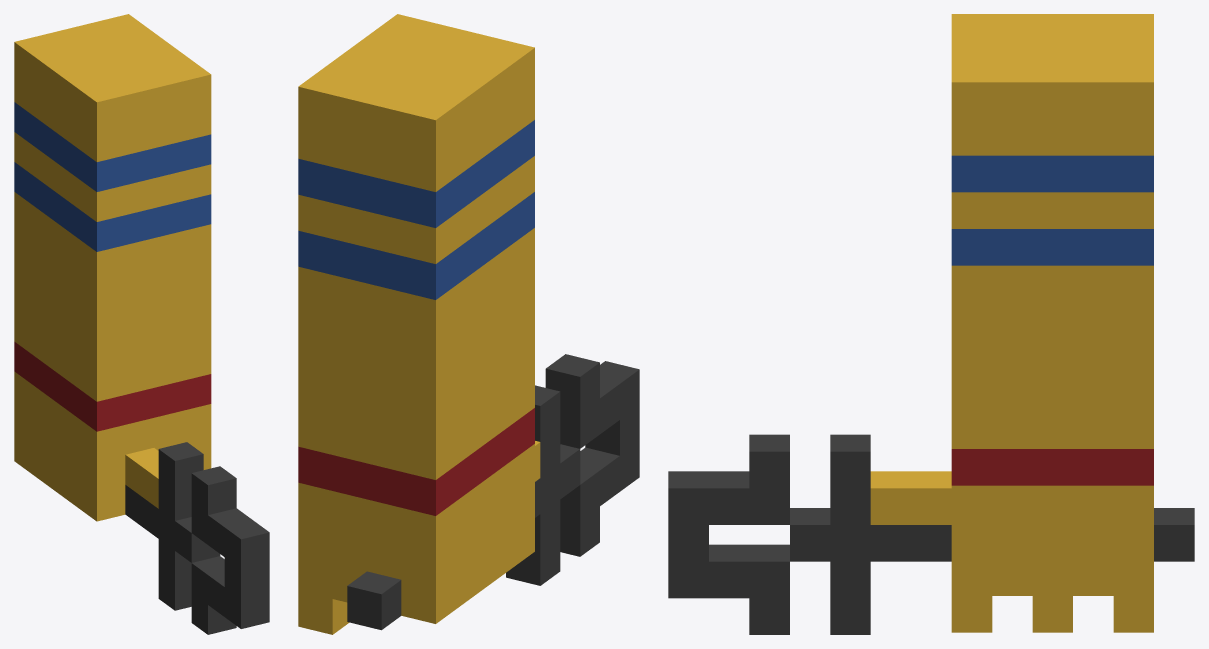
Rendered from Hathor-3.obj.
3 renders of one model, left to right at view 1: azimuth 30°, elevation 25°; view 2: azimuth 150°, elevation 25°; view 3: azimuth 270°, elevation 25°, orthographic. The views are drawn at different scales.
Bounding box in the file's own units: 0.4 × 1.6 × 1.3.
Materials: 1 (1 with a texture image).
